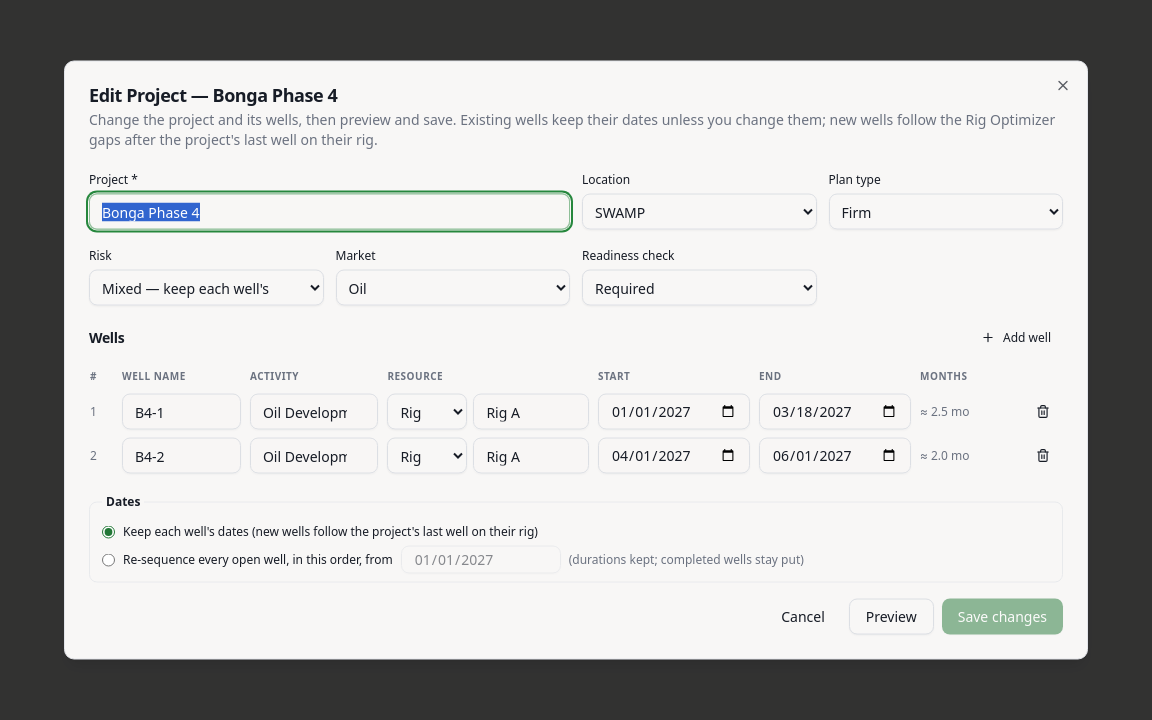
Test case: EditProjectDialog › has nothing to save when nothing changed
The image size is (1152, 720).
Click the button "Preview" at point(891, 616), box [849,598,934,634]
(page scrolled)
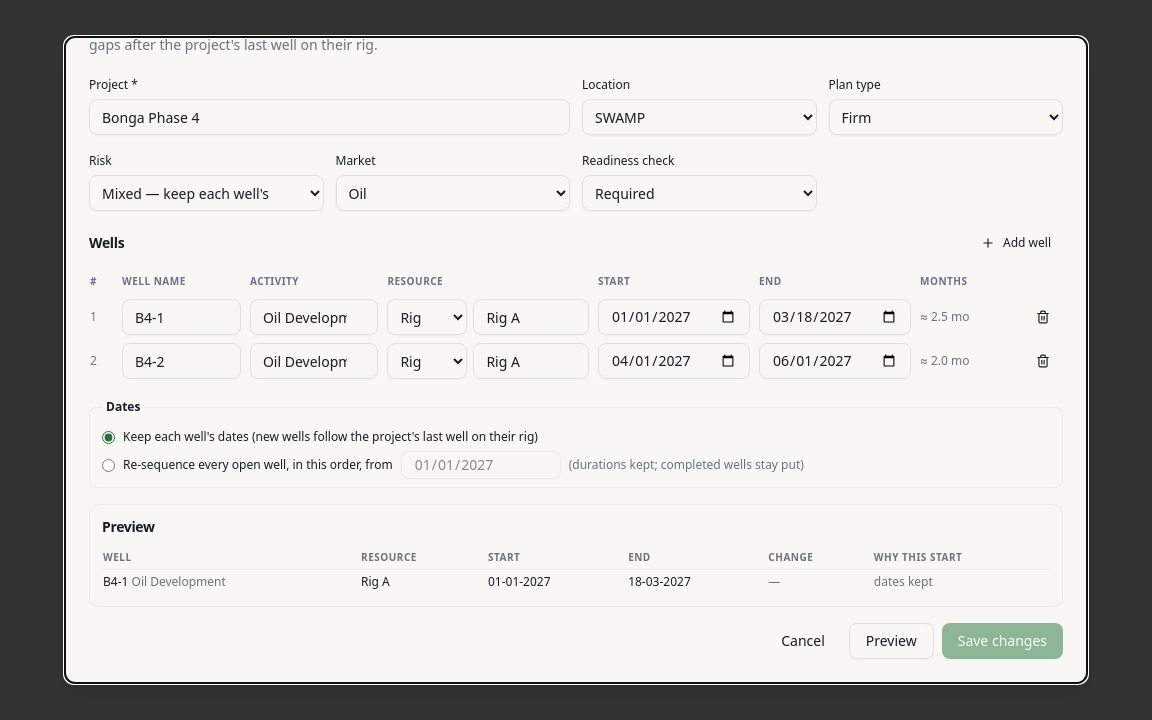
Expected: the button "Save changes" is disabled, [942,623,1063,659]
Expected: the element "Preview" is shown, [89,504,1063,607]
